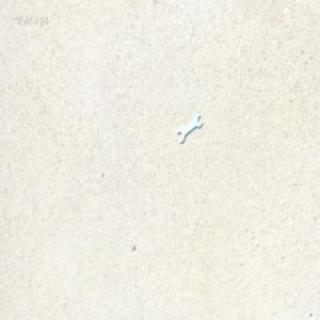Wrenchtrack_idkeyframe: (179, 112, 206, 146)
